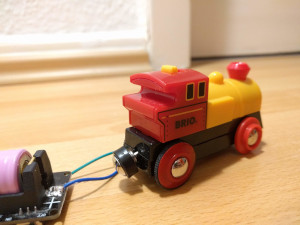brio: (111, 58, 264, 191)
